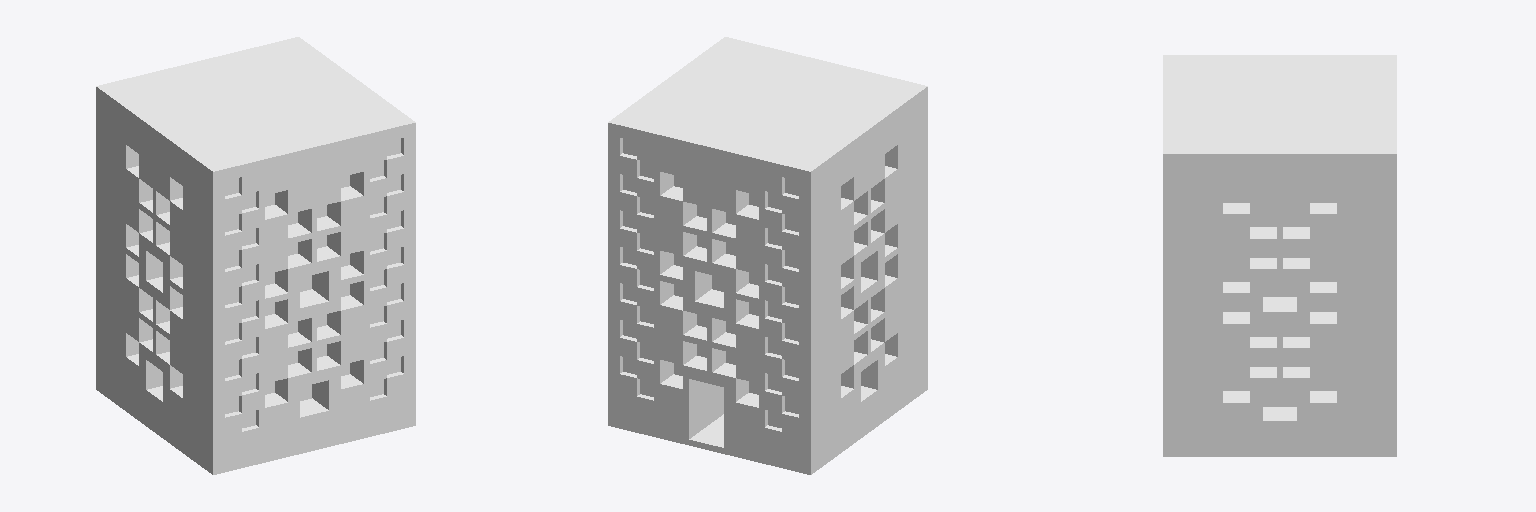
The model's file is bill_J.obj.
3 views of the same model, side by side, from view 1: azimuth 30°, elevation 25°; view 2: azimuth 150°, elevation 25°; view 3: azimuth 270°, elevation 25° (orthographic).
Bounding box in the file's own units: 35 × 50 × 35.